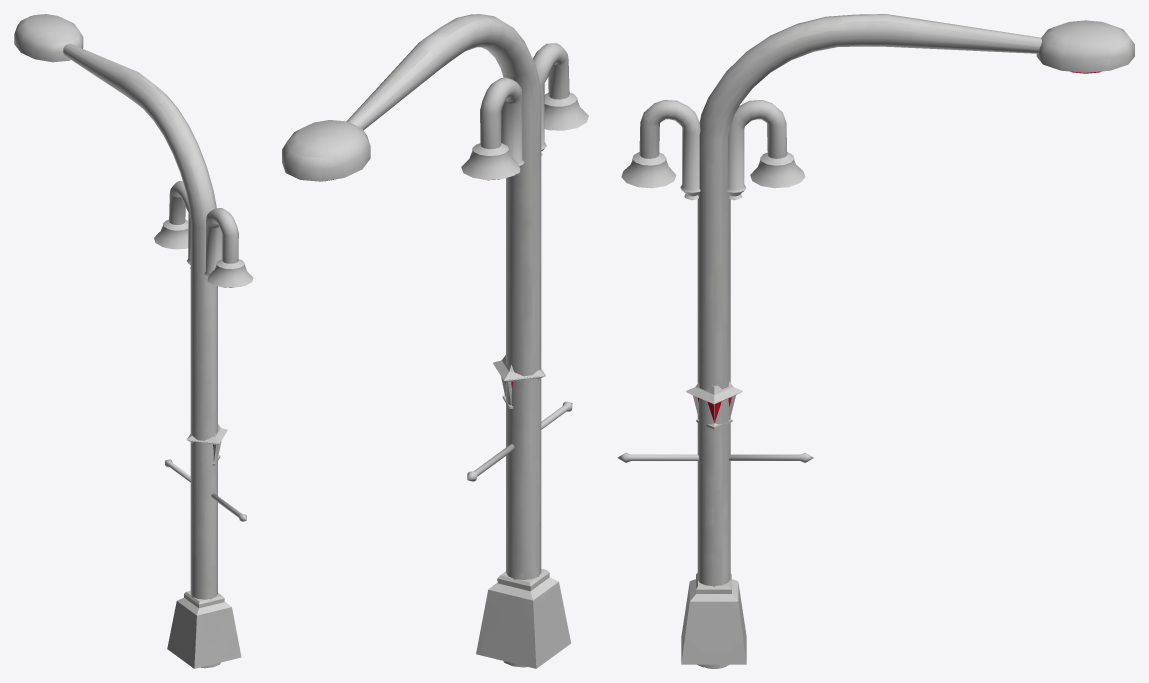
File: StreetLights.fbx
3 views of the same model, side by side, from view 1: azimuth 30°, elevation 25°; view 2: azimuth 150°, elevation 25°; view 3: azimuth 270°, elevation 25° (orthographic). The views are drawn at different scales.
Parts seen in each view (by area): view 1: L_StreetLight, DoubleStreetLight, ClassicStreetLight_Banner; view 2: L_StreetLight, DoubleStreetLight, ClassicStreetLight_Banner; view 3: L_StreetLight, DoubleStreetLight, ClassicStreetLight_Banner.
Boxes of the visible parts, x1,y1,x2,y2 form: L_StreetLight: [14, 14, 241, 668]; DoubleStreetLight: [154, 181, 253, 668]; ClassicStreetLight_Banner: [165, 424, 246, 521]; L_StreetLight: [282, 14, 571, 668]; DoubleStreetLight: [461, 43, 588, 667]; ClassicStreetLight_Banner: [467, 355, 572, 481]; L_StreetLight: [681, 14, 1134, 664]; DoubleStreetLight: [621, 100, 805, 668]; ClassicStreetLight_Banner: [617, 381, 813, 668].
Size of the model in its own units: 377 by 3449 by 2508.
